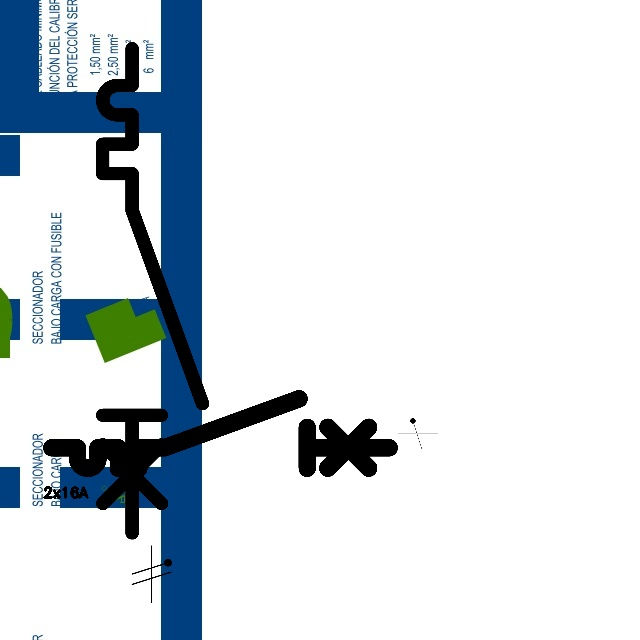interruptor_termomagnetico: (90, 36, 214, 545), (43, 390, 398, 477)
